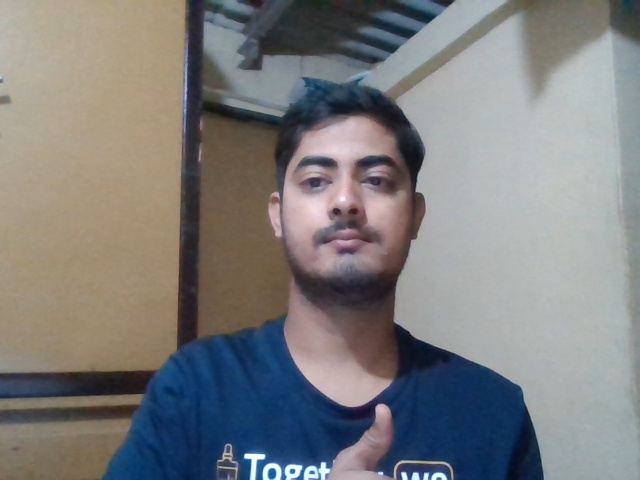ThumbsUp: (331, 404, 407, 480)
